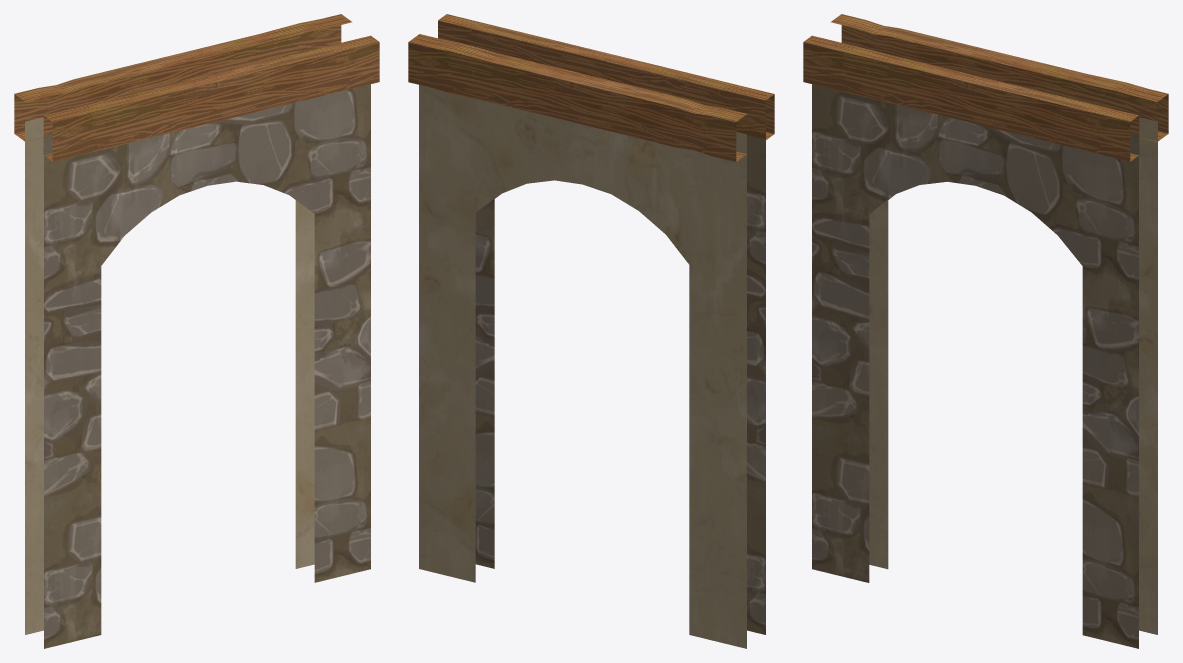
File: Wall_UnevenBrick_Door_Round.glb
3 views of the same model, side by side, from view 1: azimuth 30°, elevation 25°; view 2: azimuth 150°, elevation 25°; view 3: azimuth 330°, elevation 25° (orthographic).
Parts seen in each view (by area): view 1: Wall_UnevenBrick_Door_Round; view 2: Wall_UnevenBrick_Door_Round; view 3: Wall_UnevenBrick_Door_Round.
Boxes of the visible parts, x1,y1,x2,y2 form: Wall_UnevenBrick_Door_Round: [14, 14, 379, 648]; Wall_UnevenBrick_Door_Round: [408, 14, 774, 648]; Wall_UnevenBrick_Door_Round: [803, 14, 1168, 648].
Bounding box in the file's own units: 2 × 3.12 × 0.4065.
3 materials, 3 textured.
